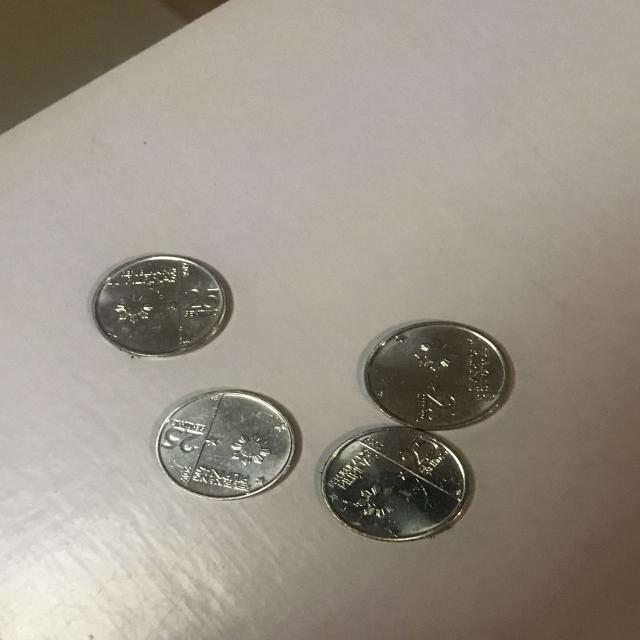25Cent_New_Front: (338, 441, 458, 533), (383, 329, 495, 419), (163, 406, 276, 482), (106, 278, 217, 344)
